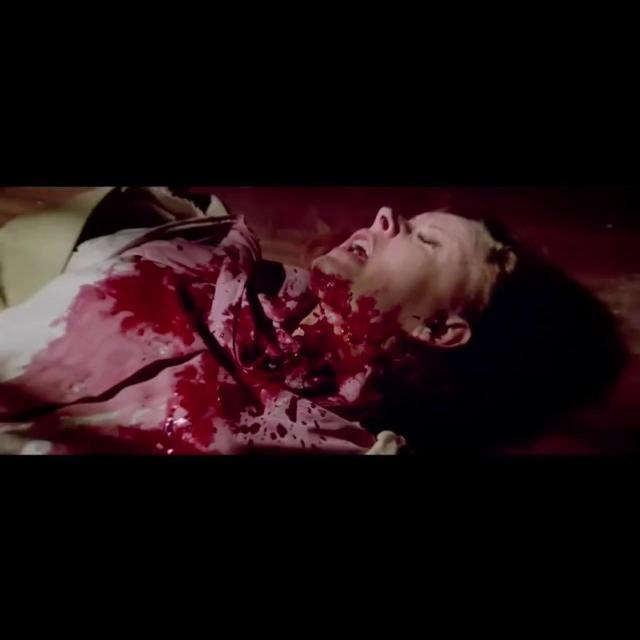blood: (0, 213, 405, 452)
